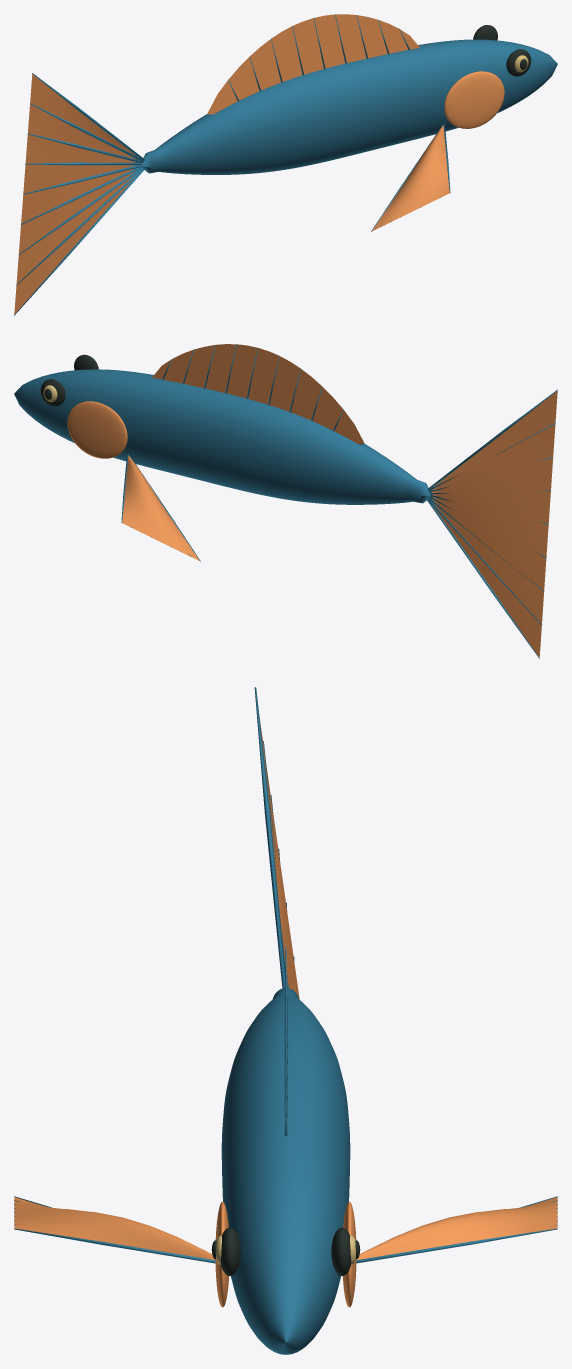
Rendered from fish-guppy.glb.
3 views of the same model, one above another, from view 1: azimuth 30°, elevation 25°; view 2: azimuth 150°, elevation 25°; view 3: azimuth 270°, elevation 25° (orthographic). The views are drawn at different scales.
Parts seen in each view (by area): view 1: FishMesh_0.002, FishMesh_1.002, FishMesh_2.002; view 2: FishMesh_1.002, FishMesh_0.002, FishMesh_2.002; view 3: FishMesh_0.002, FishMesh_1.002, FishMesh_2.002.
Part boxes in pixels (<box>): FishMesh_0.002: <box>14,14,557,315</box>; FishMesh_1.002: <box>14,14,504,314</box>; FishMesh_2.002: <box>473,25,531,76</box>; FishMesh_1.002: <box>67,344,557,657</box>; FishMesh_0.002: <box>14,344,557,658</box>; FishMesh_2.002: <box>40,354,98,406</box>; FishMesh_0.002: <box>14,687,557,1354</box>; FishMesh_1.002: <box>14,716,557,1307</box>; FishMesh_2.002: <box>211,1227,360,1275</box>.
Size of the model in its own units: 1.15 by 0.5265 by 0.6009.
4 materials, 1 textured.
